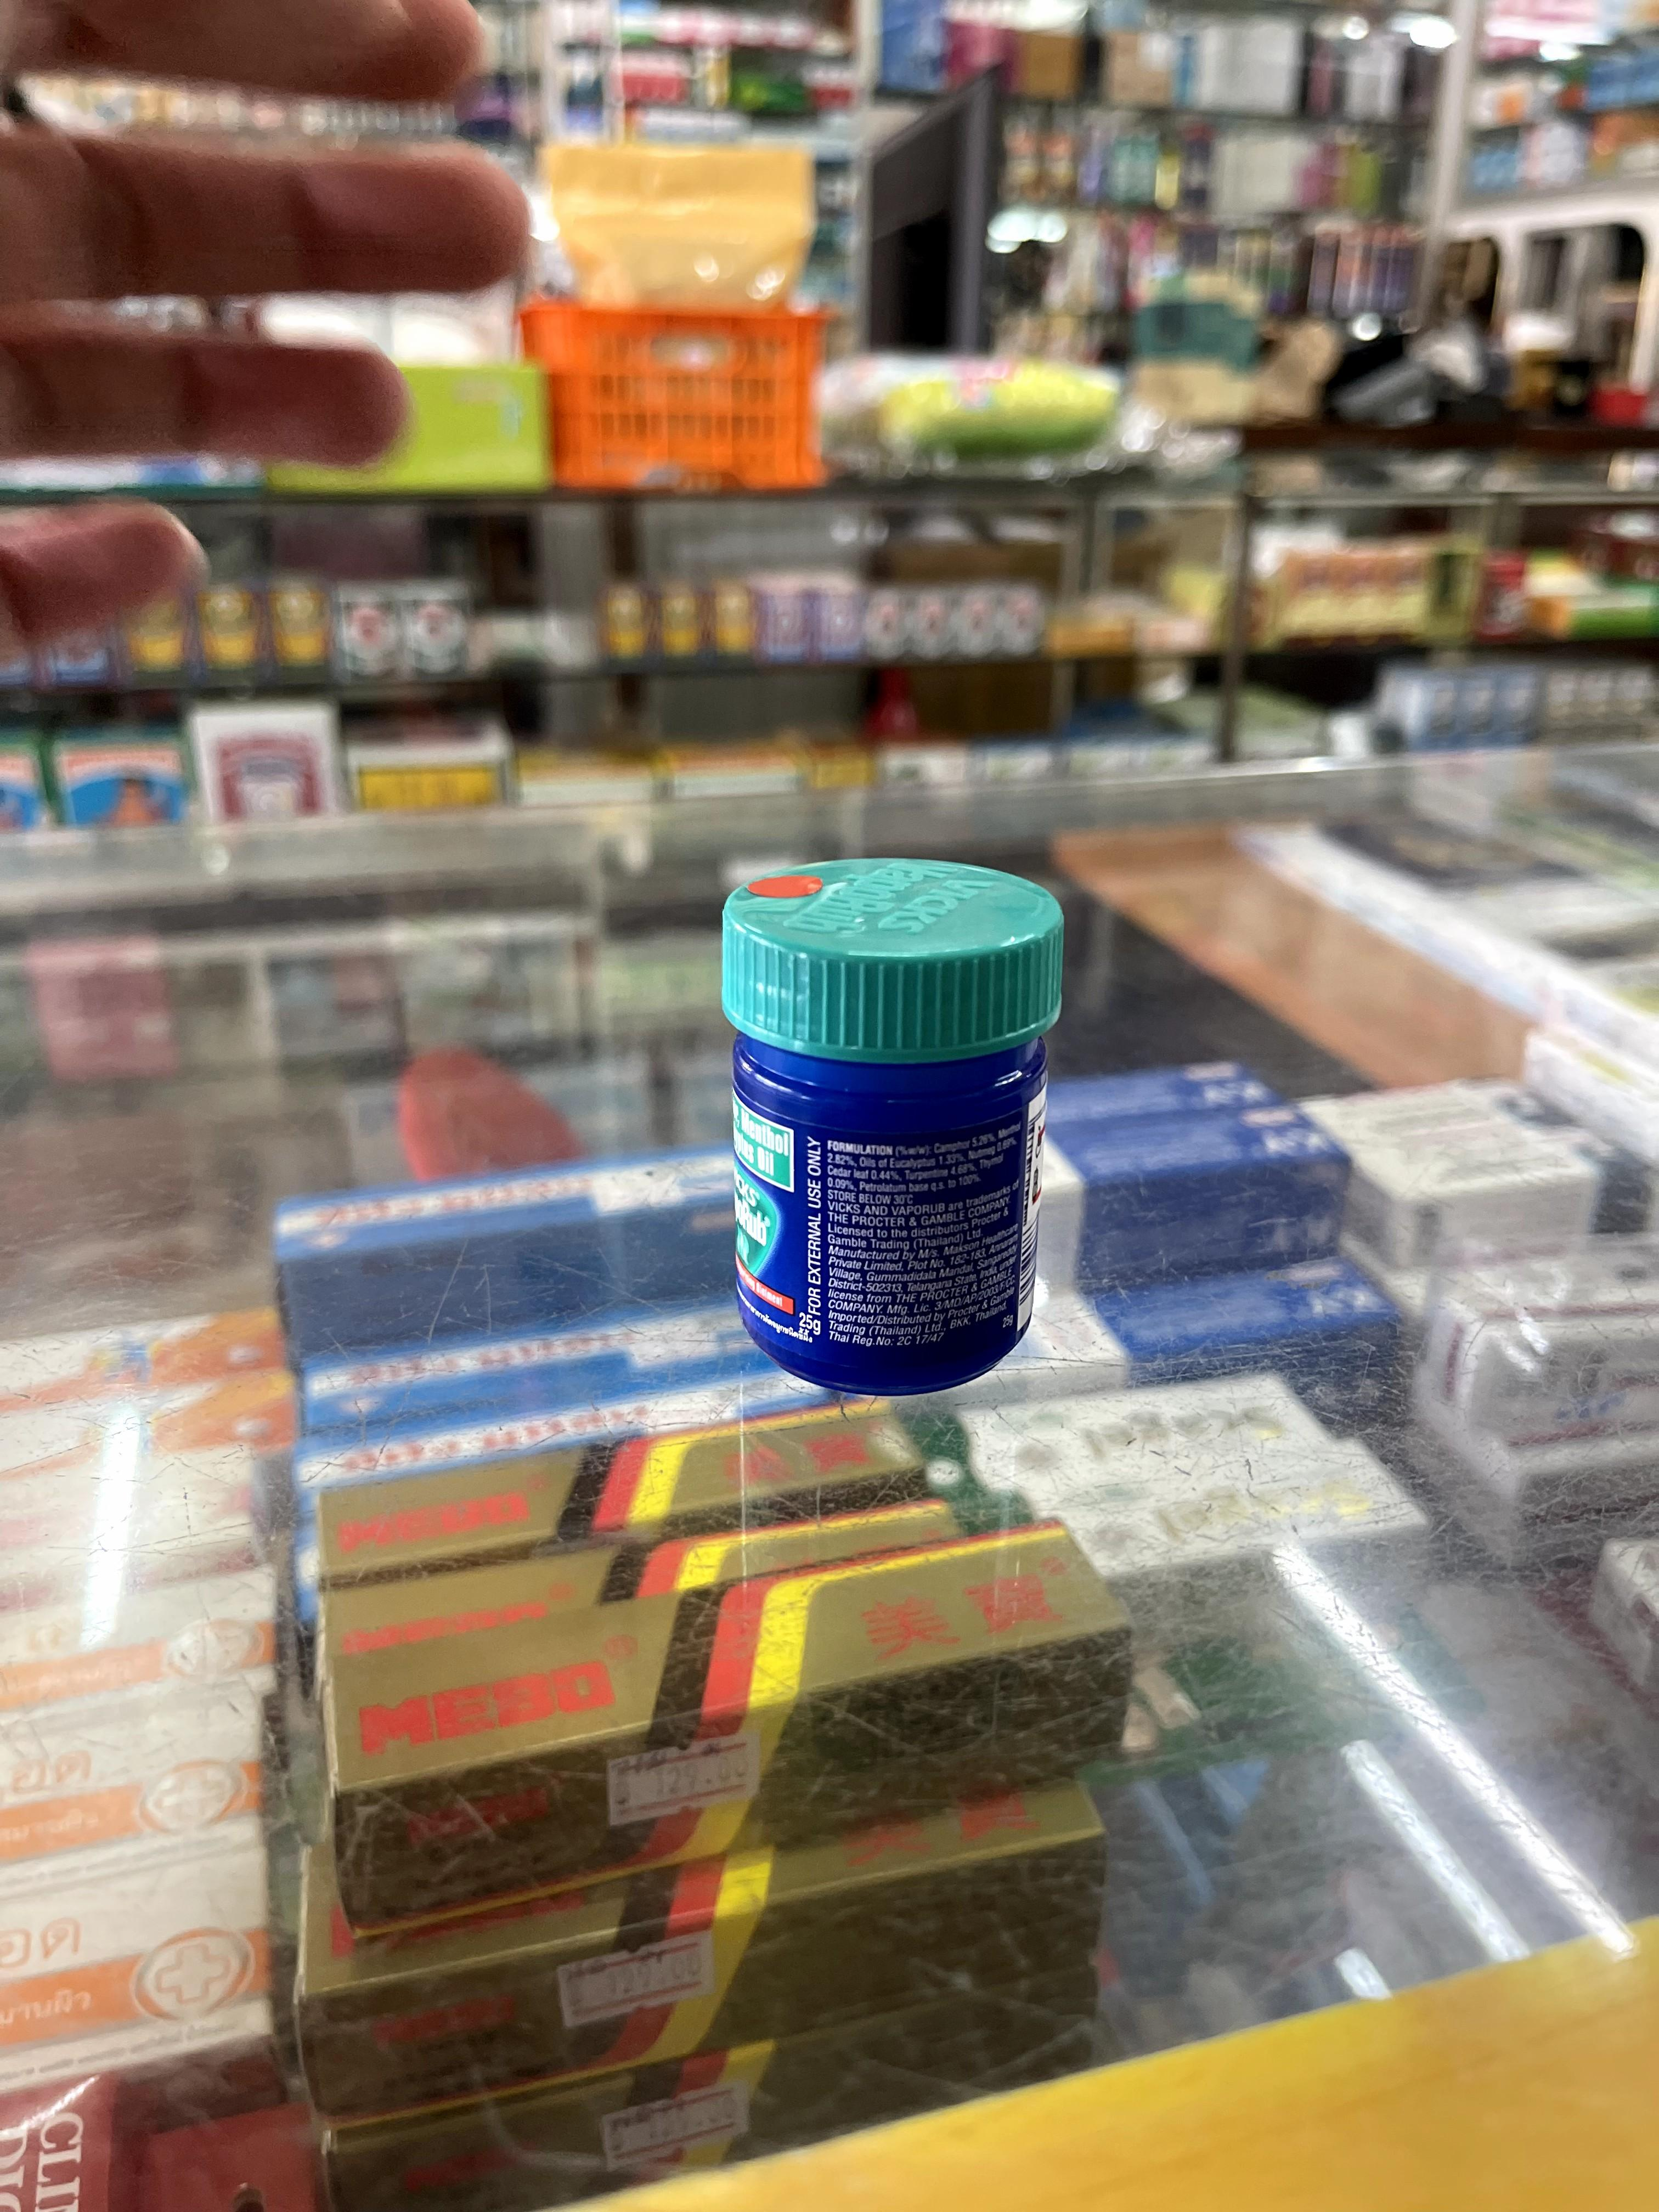VapoRub_Mid: (716, 853, 1061, 1383)
